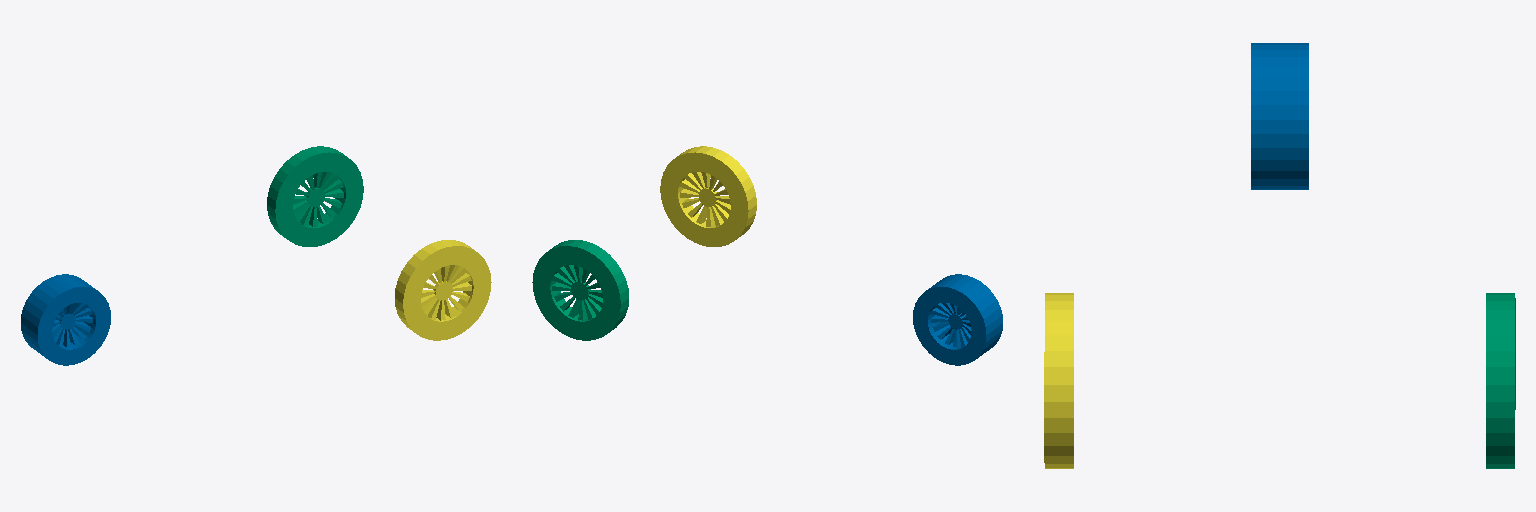
robot.urdf — ai_car:
<?xml version="1.0"?>
<robot name="ai_car"
 xmlns:xacro="http://ros.org/wiki/xacro">

  <link name="base_footprint"/>

<!--base link-->
  <joint name="base_joint" type="fixed">
    <origin xyz="0 0 0.15" rpy="0 0 0"/>
    <parent link="base_footprint"/>
    <child link="base_link"/>
  </joint>

  <link name="base_link">
     <visual>
      <origin xyz="0 0 0" rpy="0 0 3.14"/>
      <geometry>
        <mesh filename="package://aiformula_description/meshes/AIF_body.dae"/>
      </geometry>
     </visual>
     <collision>
      <origin xyz="0 0 0" rpy="0 0 3.14"/>
      <geometry>
        <mesh filename="package://aiformula_description/meshes/AIF_body.dae" />
      </geometry>
     </collision>
     <inertial>
      <mass value="30.0"/>
      <inertia ixx="1.69600" ixy="0" ixz="0"
               iyy="2.00000" iyz="0"
               izz="2.89600" />
     </inertial>
  </link>

<!--left wheel-->
  <joint name="left_wheel_joint" type="continuous">
    <origin xyz="0.0 0.3 0.0" rpy="1.57 0 1.57"/>
    <axis xyz="1 0 0"/> 
    <parent link="base_link"/>
    <child link="left_wheel_link"/>
  </joint>
  
  <link name="left_wheel_link">
     <visual>
      <!-- <origin xyz="0.0 -0.3 0.0" rpy="1.57 0 1.57"/> -->
      <geometry>
        <!-- <mesh filename="package://ai_fomula/robot_description/meshes/AIF_tire.dae"/> -->
        <mesh filename="package://aiformula_description/meshes/tire_v1.dae" scale="0.05 0.12 0.12"/>
      </geometry>
     </visual>
     <collision>
      <!-- <origin xyz="0.0 -0.3 0.0" rpy="1.57 0 1.57"/> -->
      <geometry>
        <!-- <mesh filename="package://ai_fomula/robot_description/meshes/AIF_tire.dae"/> -->
        <mesh filename="package://aiformula_description/meshes/tire_v1.dae" scale="0.05 0.12 0.12"/>
      </geometry>
     </collision>
     <inertial>
      <mass value="7.0"/>
      <inertia ixx="0.04778" ixy="0" ixz="0"
               iyy="0.04778" iyz="0"
               izz="0.07875" />
     </inertial>
  </link>

<!--right wheel-->
  <joint name="right_wheel_joint" type="continuous">
    <origin xyz="0.0 -0.3 0.0" rpy="1.57 0 1.57"/>
    <axis xyz="1 0 0"/> 
    <parent link="base_link"/>
    <child link="right_wheel_link"/>
  </joint>
  
  <link name="right_wheel_link">
     <visual>
      <!-- <origin xyz="0 0.3 0.0" rpy="0 0 0"/> -->
      <geometry>
        <!-- <mesh filename="package://ai_fomula/robot_description/meshes/AIF_tire.dae"/> -->
        <mesh filename="package://aiformula_description/meshes/tire_v1.dae" scale="0.05 0.12 0.12"/>
      </geometry>
     </visual>
     <collision>
      <!-- <origin xyz="0 0.3 0.0" rpy="0 0 0"/> -->
      <geometry>
        <!-- <mesh filename="package://ai_fomula/robot_description/meshes/AIF_tire.dae"/> -->
        <mesh filename="package://aiformula_description/meshes/tire_v1.dae" scale="0.05 0.12 0.12"/>
      </geometry>
     </collision>
     <inertial>
      <mass value="7.0"/>
      <inertia ixx="0.04778" ixy="0" ixz="0"
               iyy="0.04778" iyz="0"
               izz="0.07875" />
     </inertial>
  </link>

<!--caster bearing-->
  <!-- <joint name="caster_joint" type="revolute">
    <axis xyz="0 0 1"/>
    <parent link="base_link"/>
    <child link="caster_bearing"/>
    <origin rpy="0.0 0.0 0.0" xyz="0 -0.0 0.05"/>
    <limit lower="-0.0" upper="0.0" effort="0" velocity="0"/>
  </joint>

  <link name="caster_bearing">
    <visual>
      <geometry>
        <cylinder length="0.01" radius="0.05"/>
      </geometry>
    </visual>
    <material name="grey">
      <color rgba="0.2 0.2 0.2 1.0"/>
    </material>
    <collision>
      <geometry>
        <cylinder length="0.01" radius="0.05"/>
      </geometry>
    </collision>
    <inertial>
      <mass value="0.3"/>
      <inertia ixx="0.00019" ixy="0" ixz="0"
               iyy="0.00019" iyz="0"
               izz="0.00038" />
    </inertial>
  </link> -->

<!--caster wheel-->
  <joint name="caster_wheel_joint" type="continuous">
    <origin xyz="-0.85 0 0.0" rpy="0 0 1.57"/>
    <axis xyz="1 0 0"/> 
    <parent link="base_link"/>
    <child link="caster_link"/>
  </joint>
  
  <link name="caster_link">
     <visual>
      <geometry>
        <mesh filename="package://aiformula_description/meshes/tire_v1.dae" scale="0.1 0.1 0.1"/>
      </geometry>
     </visual>
     <collision>
      <geometry>
        <mesh filename="package://aiformula_description/meshes/tire_v1.dae" scale="0.1 0.1 0.1"/>
      </geometry>
     </collision>
     <inertial>
      <mass value="5.0"/>
      <inertia ixx="0.01517" ixy="0" ixz="0"
               iyy="0.01517" iyz="0"
               izz="0.02500" />
     </inertial>
  </link>
  <transmission name="tran1">
    <type>transmission_interface/SimpleTransmission</type>
    <joint name="left_wheel_joint">
      <hardwareInterface>VelocityJointInterface</hardwareInterface>
    </joint>   
    <actuator name="left_wheel">
      <hardwareInterface>VelocityJointInterface</hardwareInterface>
      <mechanicalReduction>1</mechanicalReduction>
    </actuator>
  </transmission>

  <transmission name="tran2">
    <type>transmission_interface/SimpleTransmission</type>
    <joint name="right_wheel_joint">
      <hardwareInterface>VelocityJointInterface</hardwareInterface>
    </joint>  
    <actuator name="right_wheel">
      <hardwareInterface>VelocityJointInterface</hardwareInterface>
      <mechanicalReduction>1</mechanicalReduction>
    </actuator>
  </transmission>
</robot>

--- Render facts (derived) ---
3 views of the same robot in one strip: view 1: azimuth 30°, elevation 25°; view 2: azimuth 150°, elevation 25°; view 3: azimuth 270°, elevation 25° (orthographic).
Robot: ai_car — 5 links, 4 joints (3 continuous, 1 fixed); root link base_footprint; default pose: all joints at 0.
Links seen in each view (by area): view 1: left_wheel_link, right_wheel_link, caster_link; view 2: right_wheel_link, left_wheel_link, caster_link; view 3: caster_link, left_wheel_link, right_wheel_link.
Link boxes in pixels (x1=…): left_wheel_link: x1=267, y1=146, x2=363, y2=246; right_wheel_link: x1=395, y1=240, x2=491, y2=340; caster_link: x1=21, y1=274, x2=110, y2=365; right_wheel_link: x1=660, y1=146, x2=756, y2=246; left_wheel_link: x1=532, y1=240, x2=628, y2=340; caster_link: x1=913, y1=274, x2=1002, y2=365; caster_link: x1=1251, y1=43, x2=1308, y2=189; left_wheel_link: x1=1486, y1=293, x2=1515, y2=468; right_wheel_link: x1=1044, y1=293, x2=1073, y2=468.
Size in the robot's own frame: 1.07 by 0.6402 by 0.24 metres.
Meshes: 2 distinct files referenced, 3 mesh visuals loaded (1 Collada DAE); not drawn: 1 (reference not matched to a file when rendering).